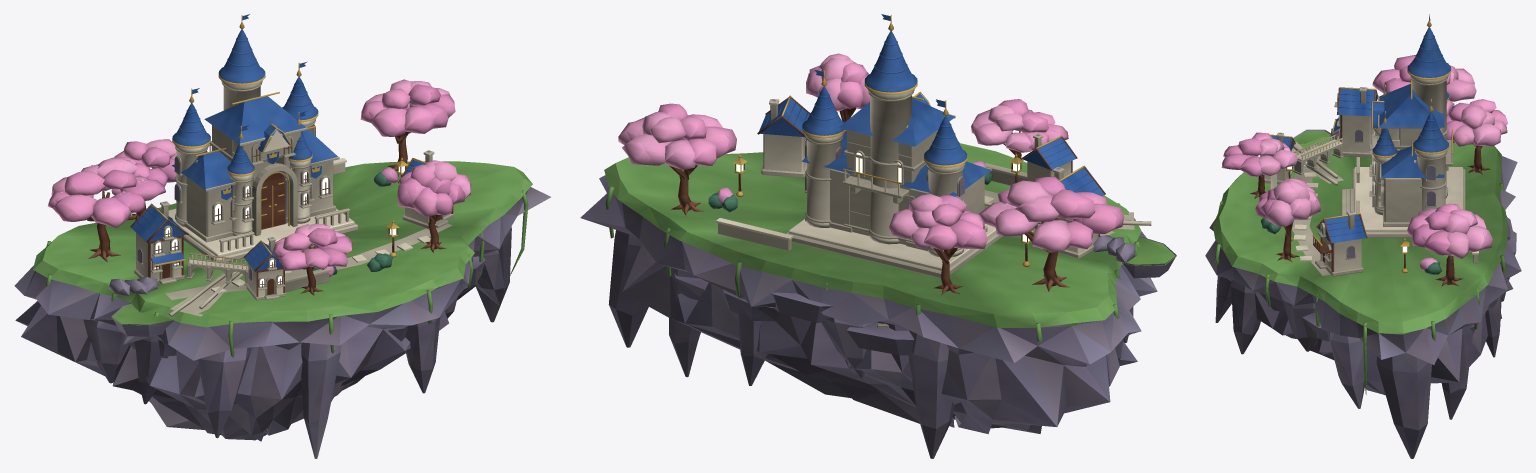
File: royal-island-left-v4.glb
3 renders of one model, left to right at view 1: azimuth 30°, elevation 25°; view 2: azimuth 150°, elevation 25°; view 3: azimuth 270°, elevation 25°, orthographic. The views are drawn at different scales.
Visible parts, largest first — view 1: royal-island-left-v4; view 2: royal-island-left-v4; view 3: royal-island-left-v4.
Part boxes in pixels (x1,y1,x2,y2): royal-island-left-v4: [14, 14, 550, 458]; royal-island-left-v4: [580, 14, 1176, 458]; royal-island-left-v4: [1205, 14, 1521, 458].
Size of the model in its own units: 20.21 by 15.2 by 12.08.
10 materials, 10 textured.
